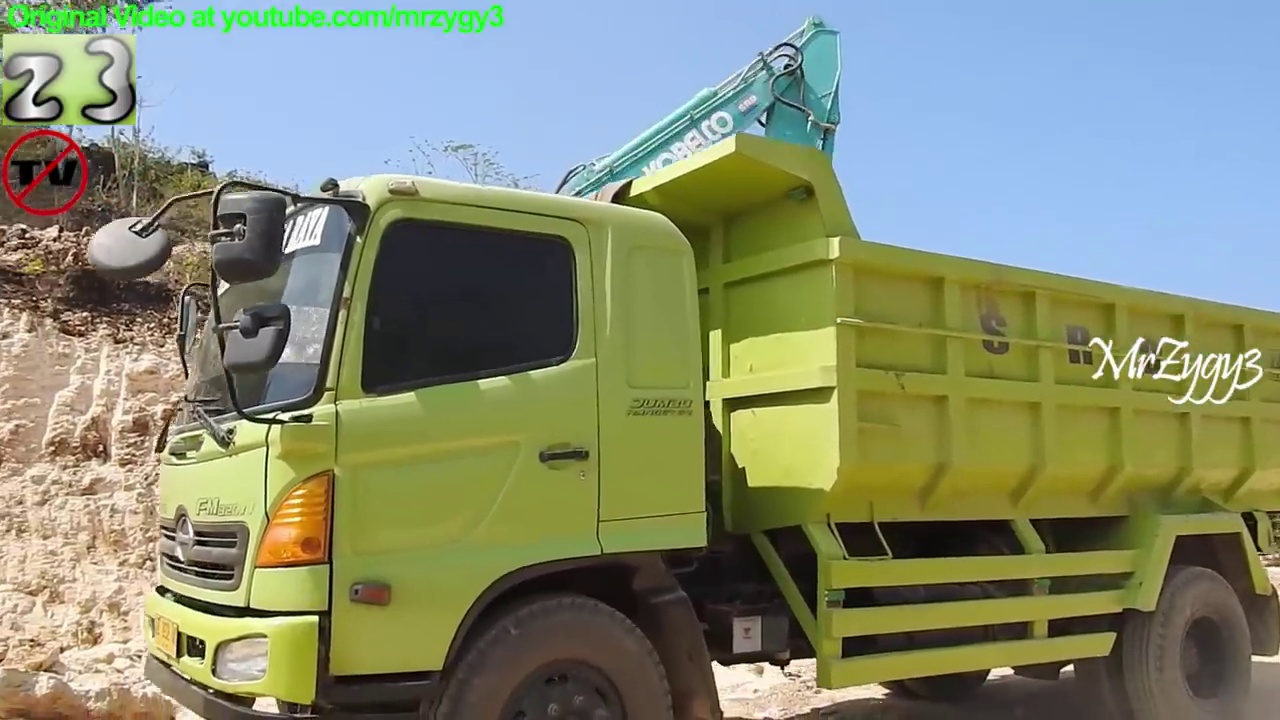excavator: (381, 10, 889, 700)
truck: (82, 128, 1280, 720)
